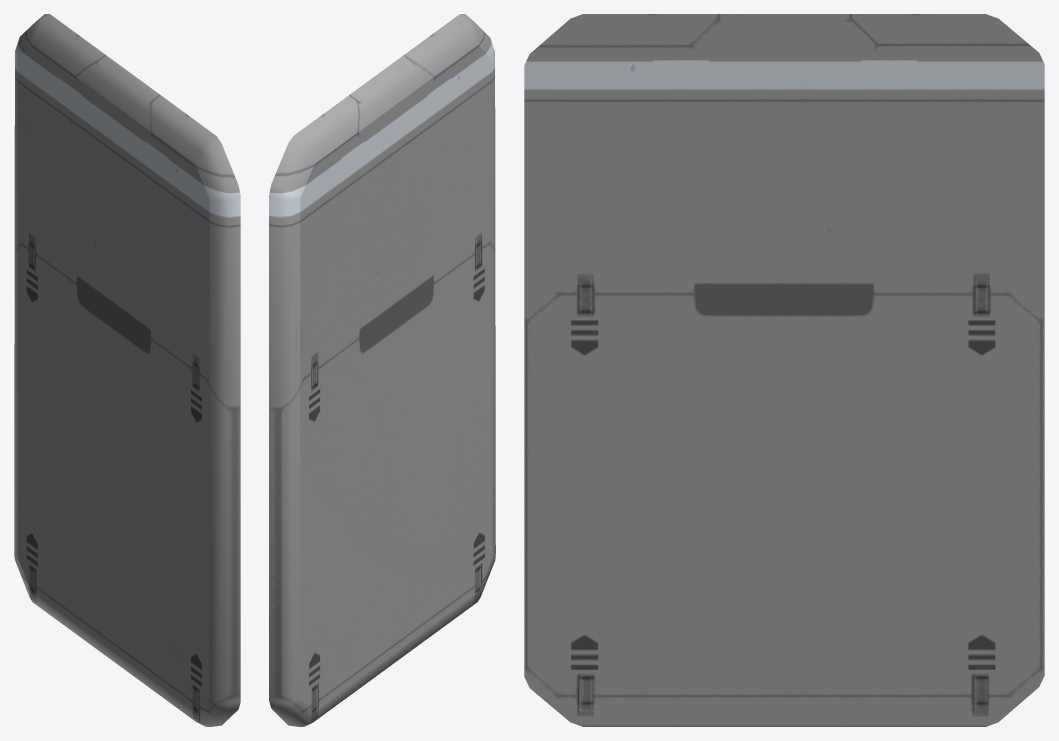
The model's file is SM_Wall_Small14.fbx.
3 renders of one model, left to right at view 1: azimuth 30°, elevation 25°; view 2: azimuth 150°, elevation 25°; view 3: azimuth 270°, elevation 25°, orthographic. The views are drawn at different scales.
Parts seen in each view (by area): view 1: SM_Wall_Small14_LOD0; view 2: SM_Wall_Small14_LOD0; view 3: SM_Wall_Small14_LOD0.
Part boxes in pixels (x1=…): SM_Wall_Small14_LOD0: x1=14, y1=14, x2=240, y2=726; SM_Wall_Small14_LOD0: x1=269, y1=14, x2=495, y2=726; SM_Wall_Small14_LOD0: x1=524, y1=14, x2=1044, y2=726.
Bounding box in the file's own units: 7.45 × 142 × 215.
1 material, 1 textured.
